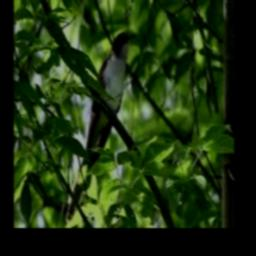Cuckoo: (66, 32, 135, 224)
